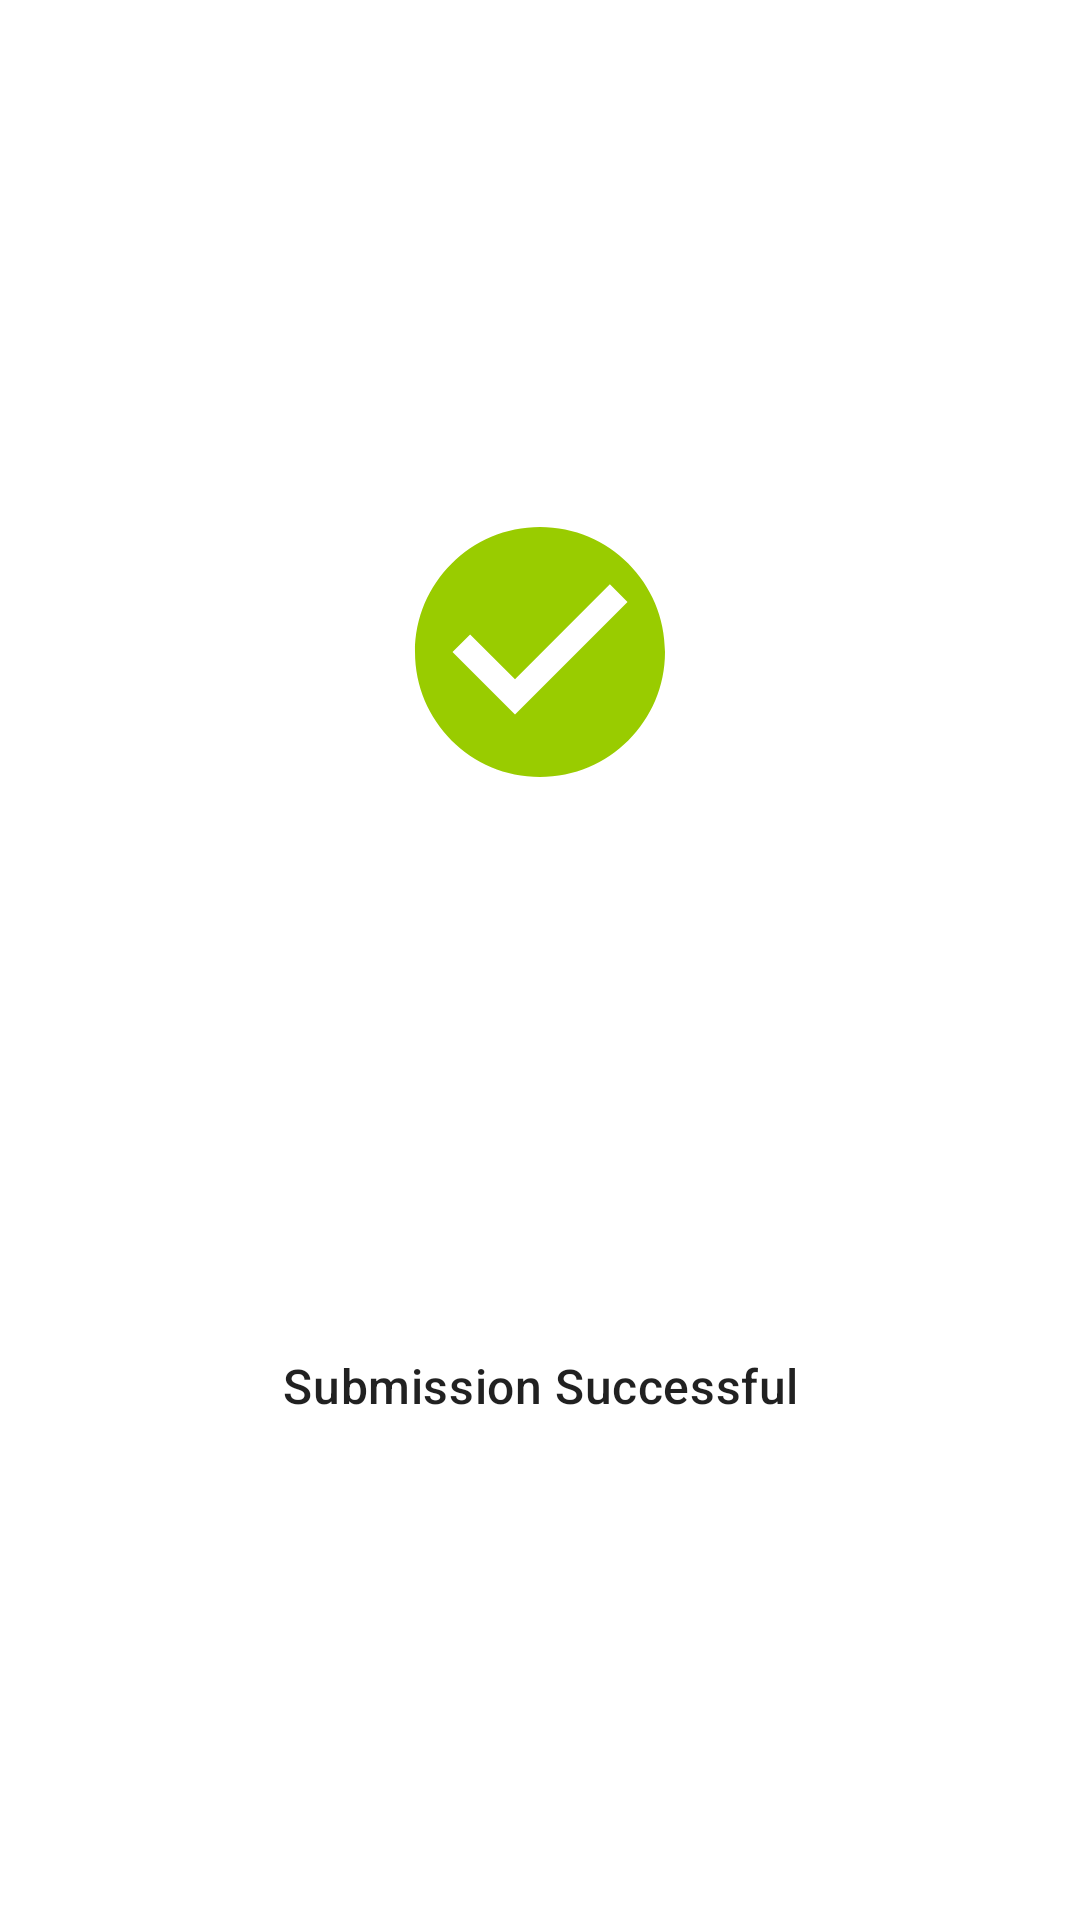

Screen size 1080*1920. Icon name, then its box in pixels as rect(x1, y1, x2, y2):
Success alert image: rect(415, 527, 665, 777)
